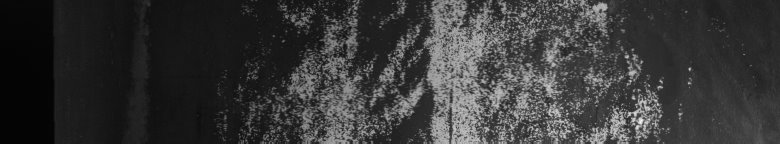kb: (292, 4, 728, 136)
